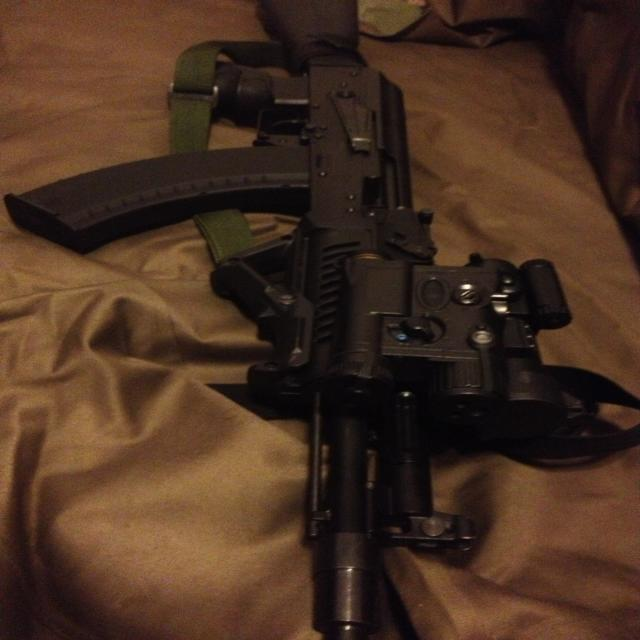firearm: (15, 0, 572, 640)
